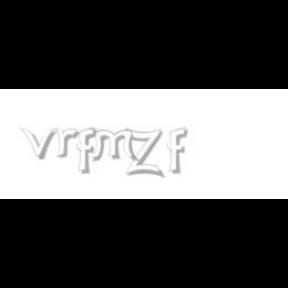Z: (126, 128, 162, 178)
f: (77, 128, 101, 174), (167, 128, 191, 174)
m: (88, 128, 140, 162)
r: (56, 128, 83, 158)
v: (20, 128, 60, 160)
